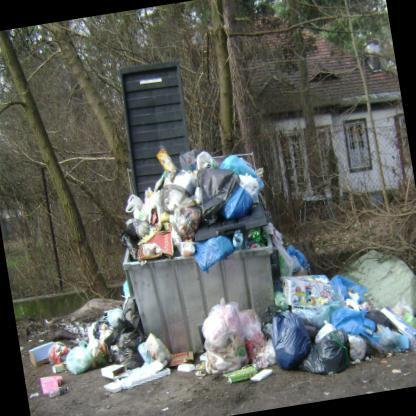Garbage: (16, 280, 136, 405), (117, 146, 266, 243), (271, 271, 390, 387), (98, 328, 174, 414), (200, 300, 270, 386), (369, 309, 415, 368)
